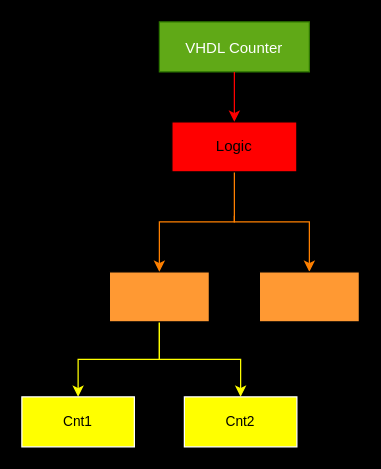
The diagram is 381 pixels wide and 469 high, and some of its shapes have lost their labels. The box of each missing label's shape, as (x1, y1, x2, y2) in pixels:
Counter: (108, 271, 209, 322)
FSM: (258, 271, 359, 322)
